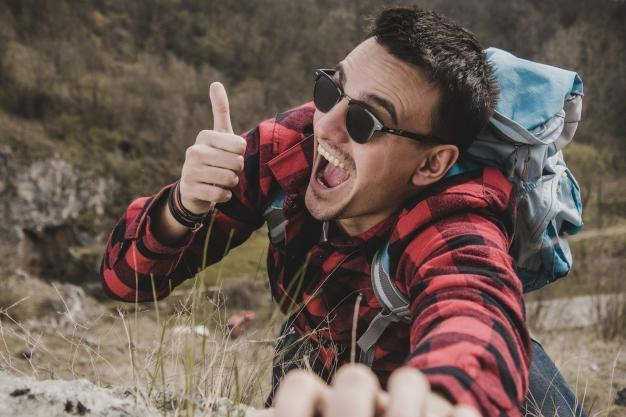thumbsup: (181, 81, 248, 203)
